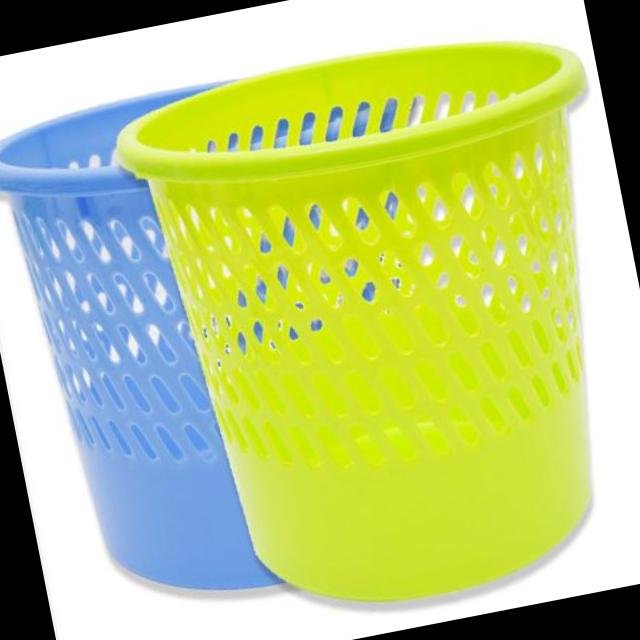dustbin: (100, 7, 640, 640), (0, 39, 509, 635)
